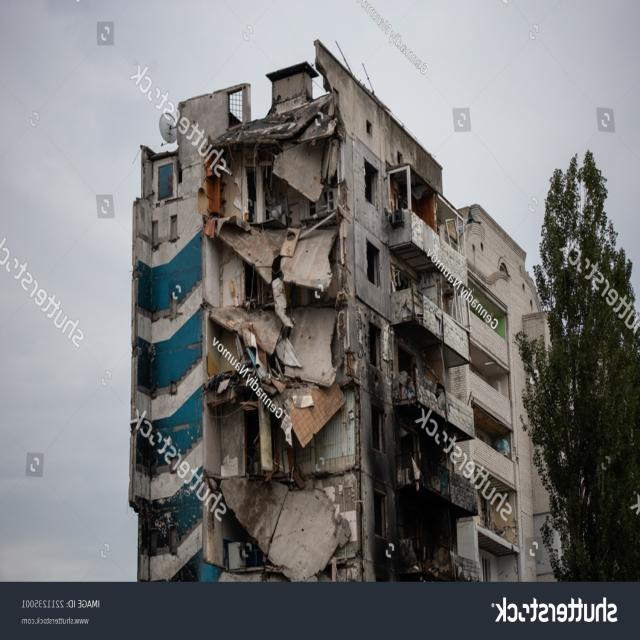Destroyed_building: (0, 2, 639, 574)
